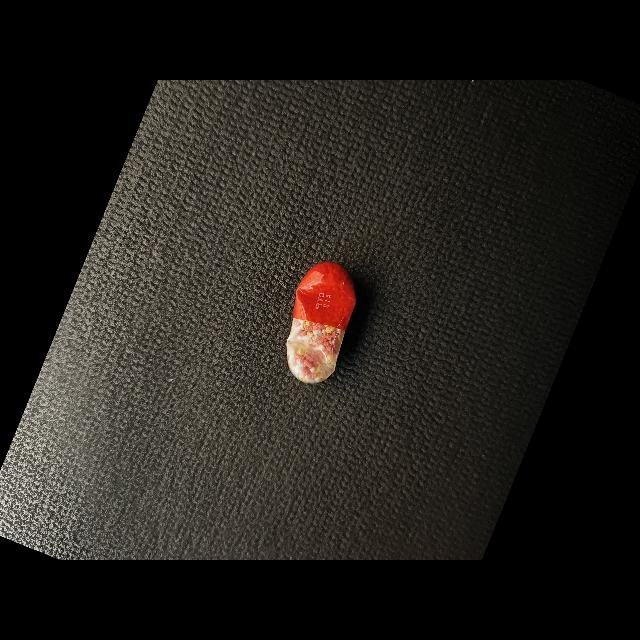Defective Capsule: (286, 262, 356, 384)
